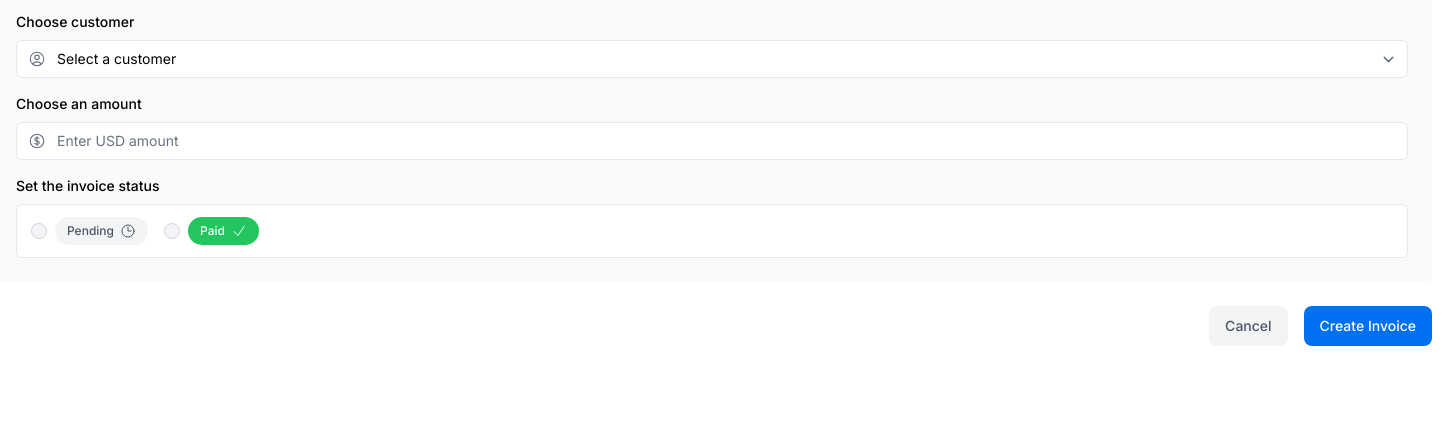
Scenario: Form › Choose customer ドロップダウンリストが未選択のときのエラーを確認する
Click the button "Create Invoice": (1368, 326) [1304,306,1432,346]
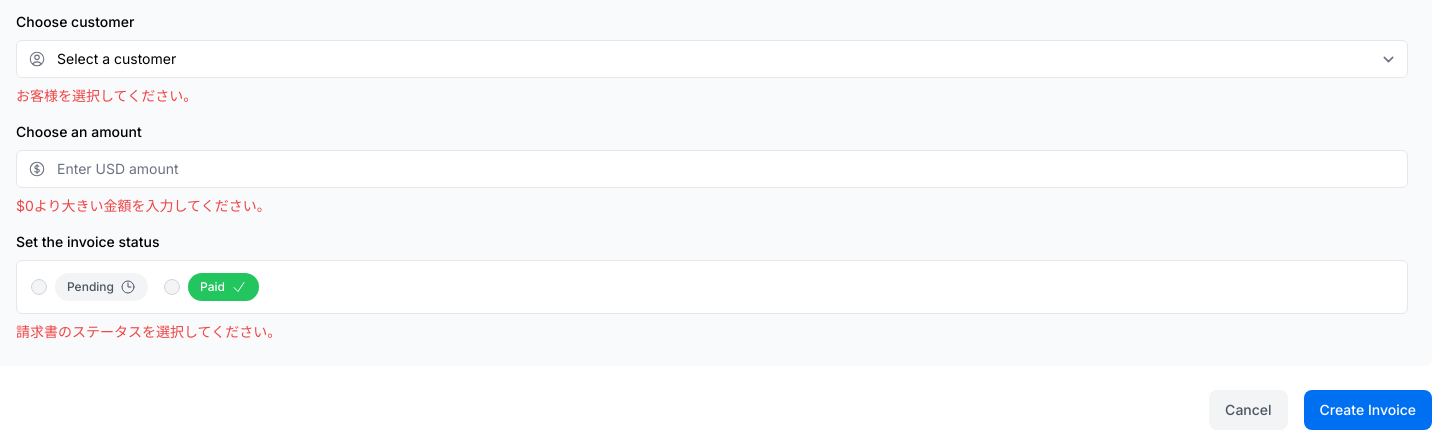
Now the text "お客様を選択してください。" is shown, box [16,87,197,104]
